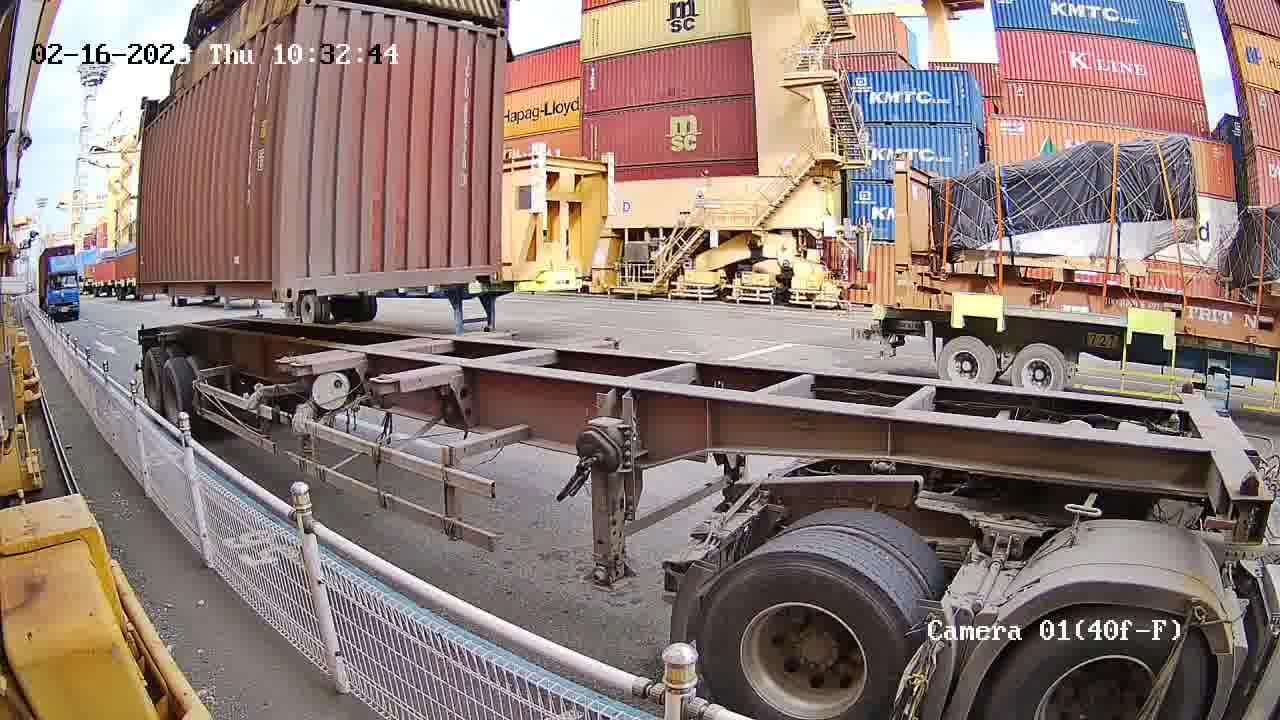Chassis: (291, 330, 518, 374), (275, 327, 499, 364)
Cone: (293, 356, 309, 379), (276, 356, 291, 372)
Hole_L: (279, 265, 318, 302)
Hole_R: (472, 245, 502, 282), (254, 265, 279, 302)
Tire: (163, 365, 185, 424), (144, 357, 161, 408)
